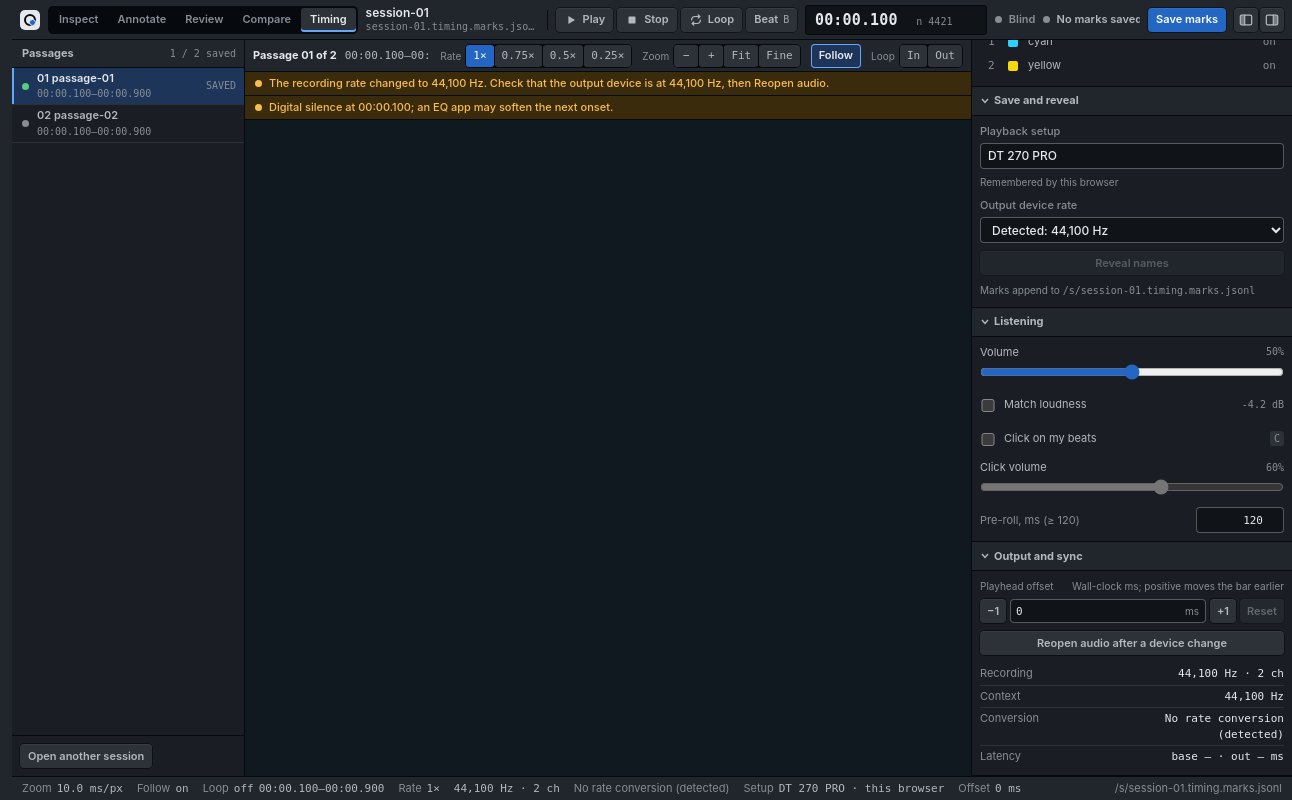
it: warns in the HUD when the device rate differs from the recording or the recording rate changes
(page scrolled)
Click the button "Reopen audio after a device change" at (1132, 644), box [980,632,1284,656]
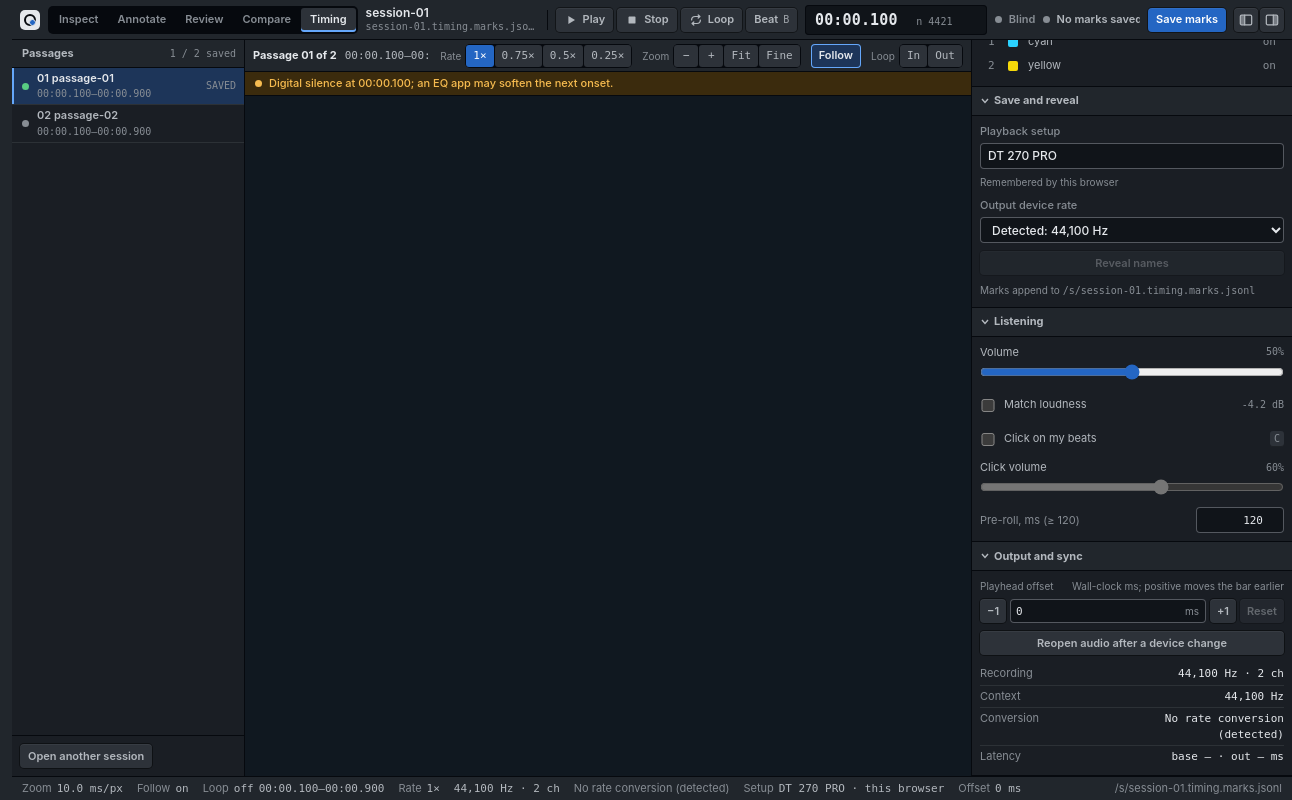
expect the message with class "timing-hud-warning" is gone: met
